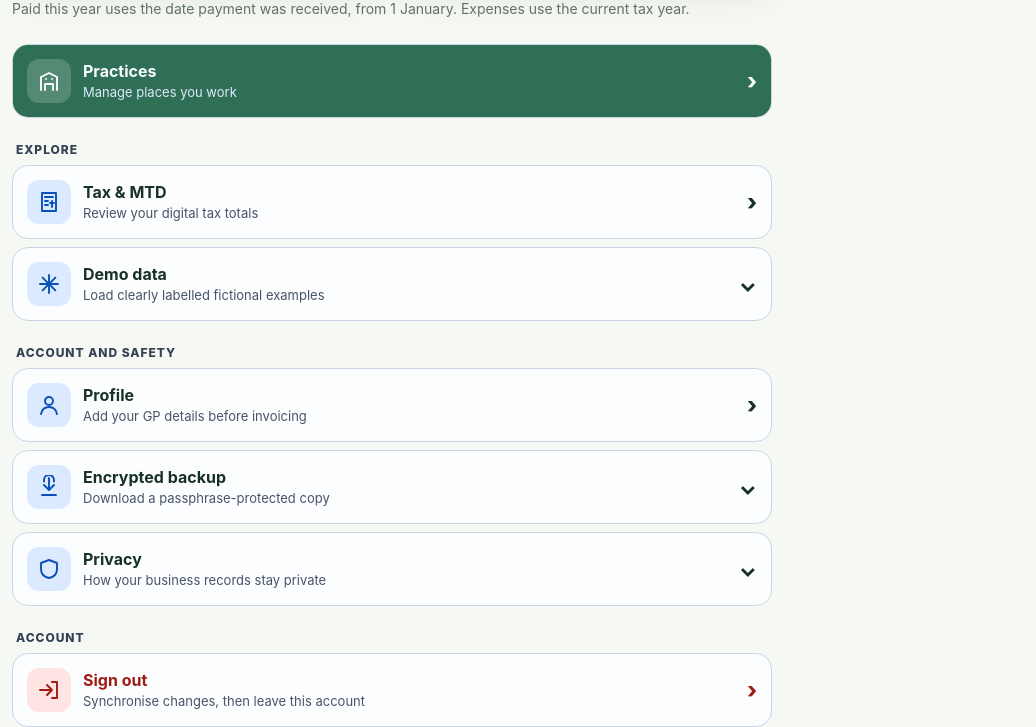
keeps sign-out feedback beside sign out when backup is open
(page scrolled)
Click the button "Encrypted backup" at [49, 487], box [13,451,771,523]
(page scrolled)
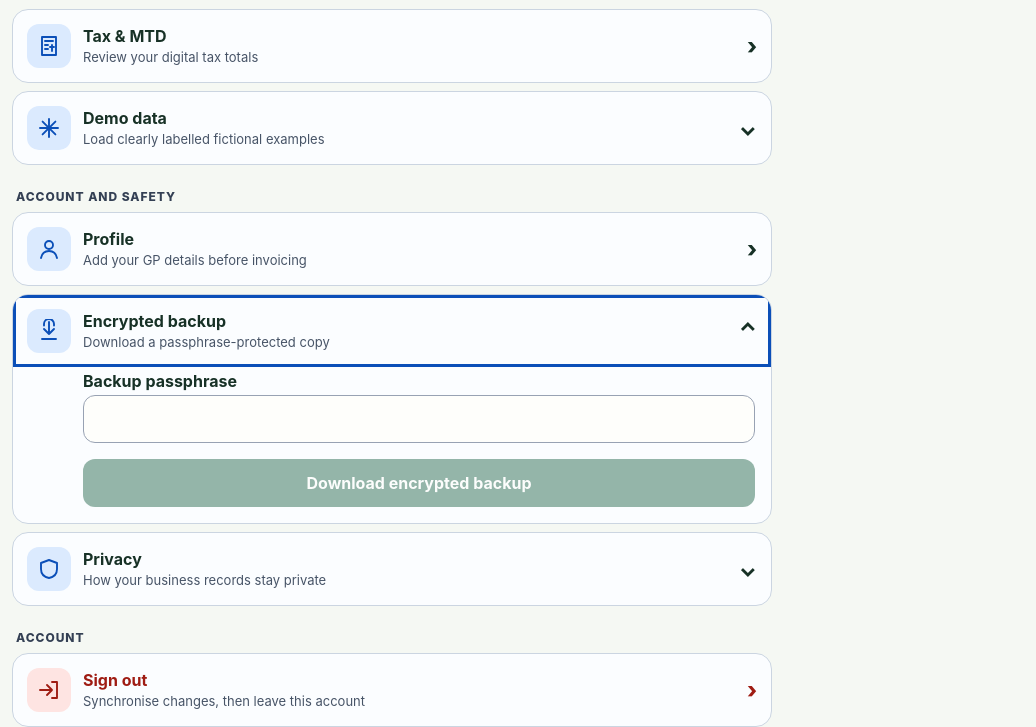
Click the button "Sign out" at [49, 690], box [13,654,771,726]
(page scrolled)
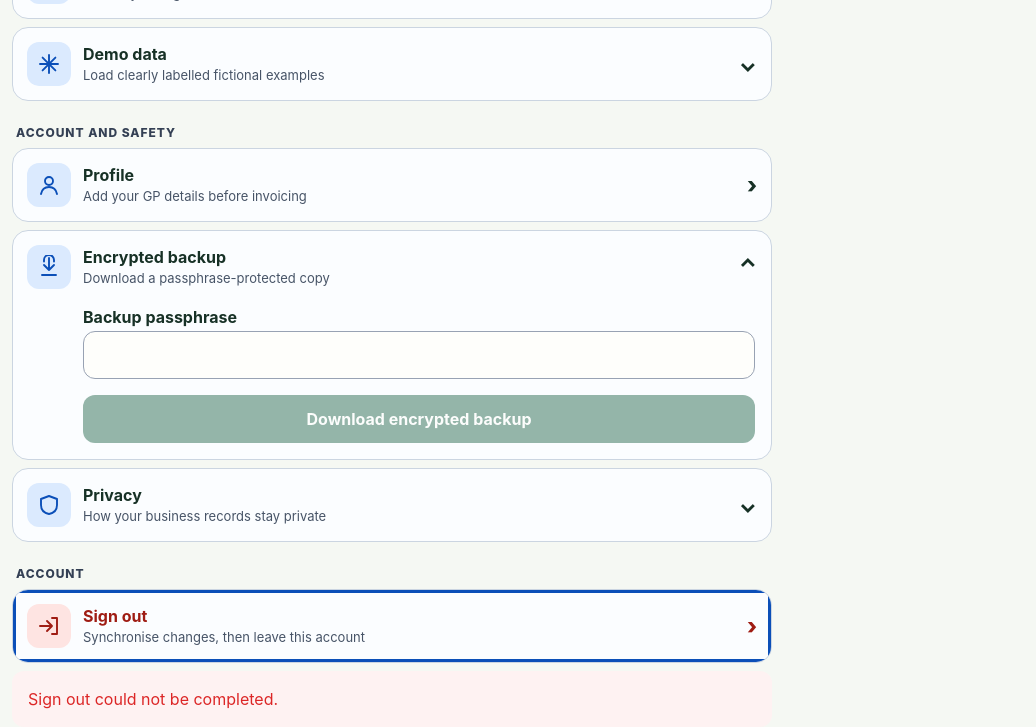
Expected: the element "Account" is shown, [12,566,772,726]
Expected: the element with id "backup-controls" is shown, [13,303,771,459]
Expected: the message reads "Sign out could not be completed.", [28,689,278,709]
